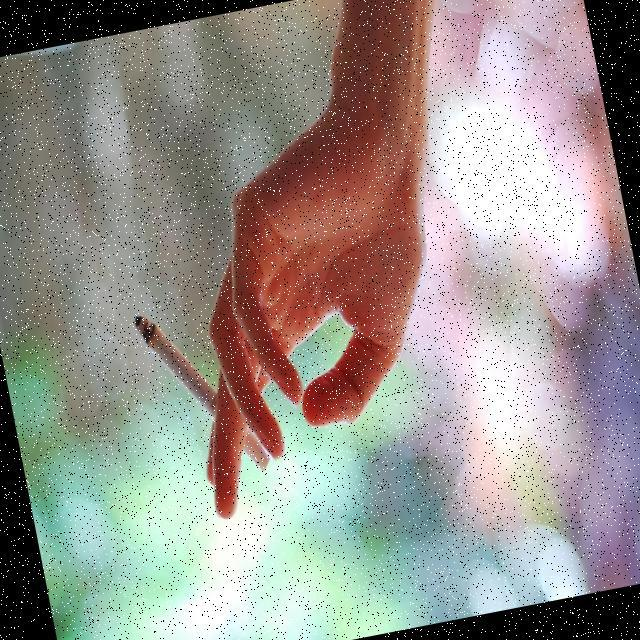cigarette: (121, 288, 271, 496)
